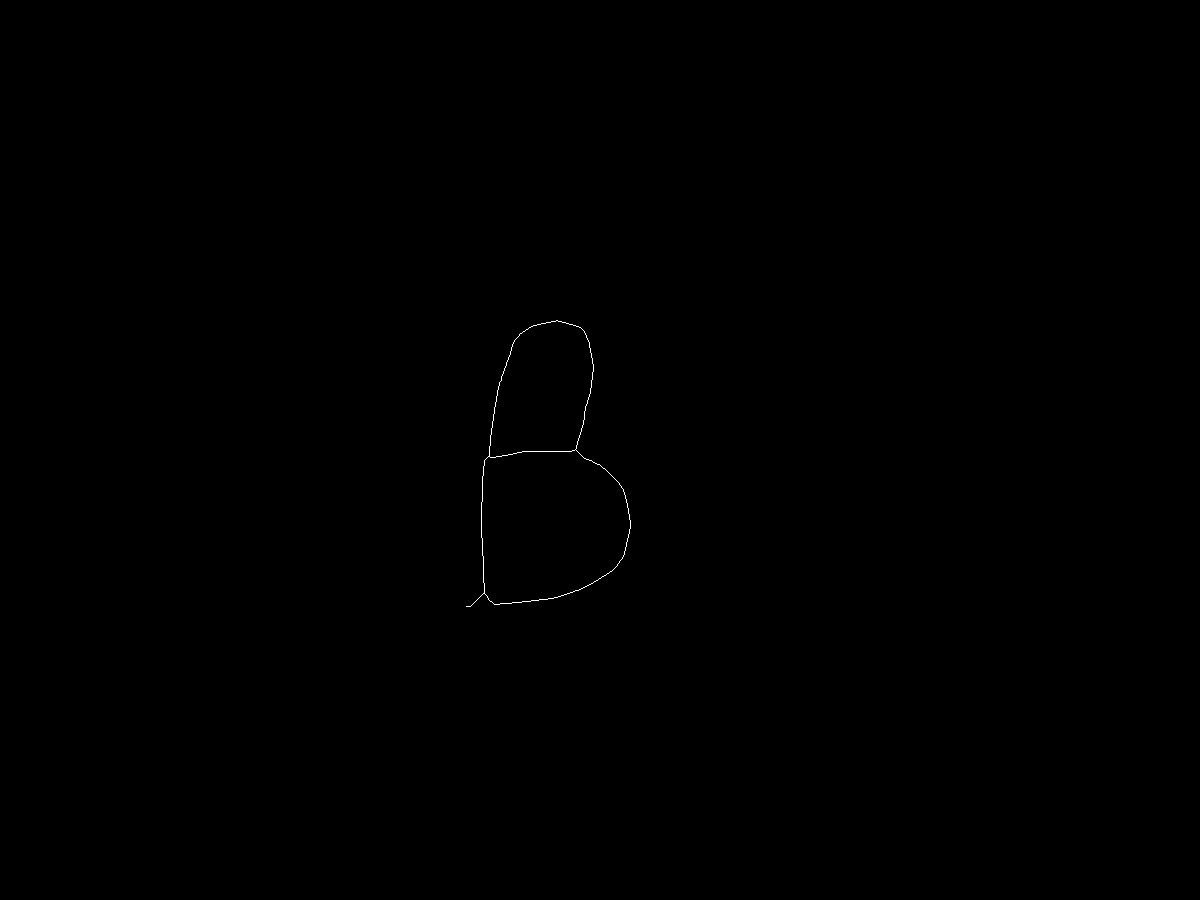dian1: (511, 329, 528, 346)
dian2: (478, 448, 498, 468)
dian3: (476, 584, 492, 600)
dian4: (565, 448, 579, 462)
